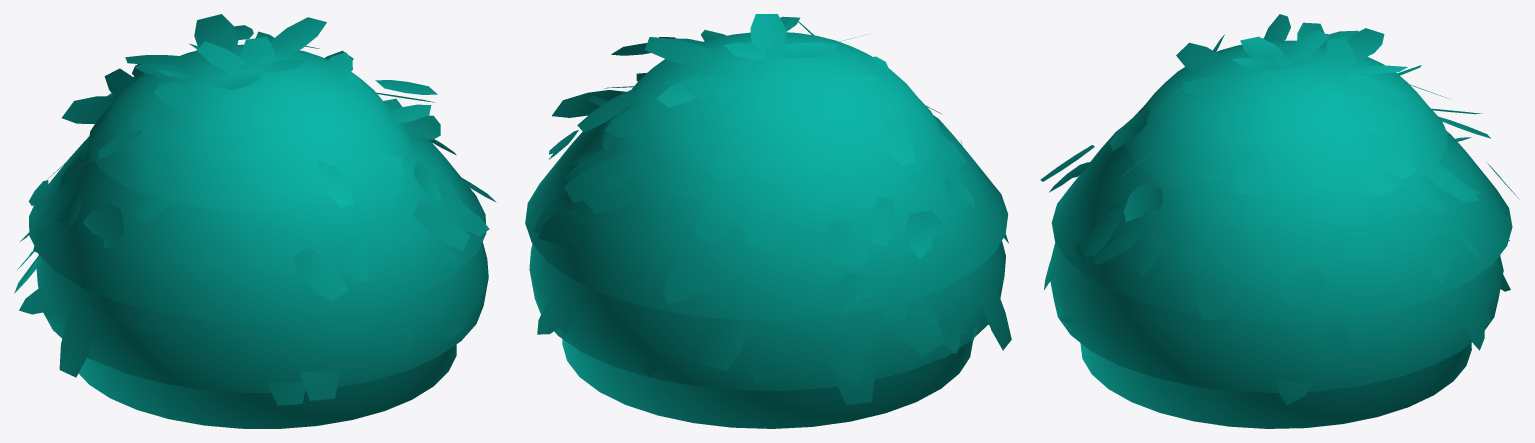
The model's file is SM_Bush.fbx.
3 views of the same model, side by side, from view 1: azimuth 30°, elevation 25°; view 2: azimuth 150°, elevation 25°; view 3: azimuth 270°, elevation 25° (orthographic). The views are drawn at different scales.
Visible parts, largest first — view 1: Sphere014; view 2: Sphere014; view 3: Sphere014.
Boxes of the visible parts, x1,y1,x2,y2 form: Sphere014: (14, 14, 496, 428); Sphere014: (525, 14, 1011, 428); Sphere014: (1040, 14, 1519, 428).
Bounding box in the file's own units: 71.96 × 48.57 × 71.75.
